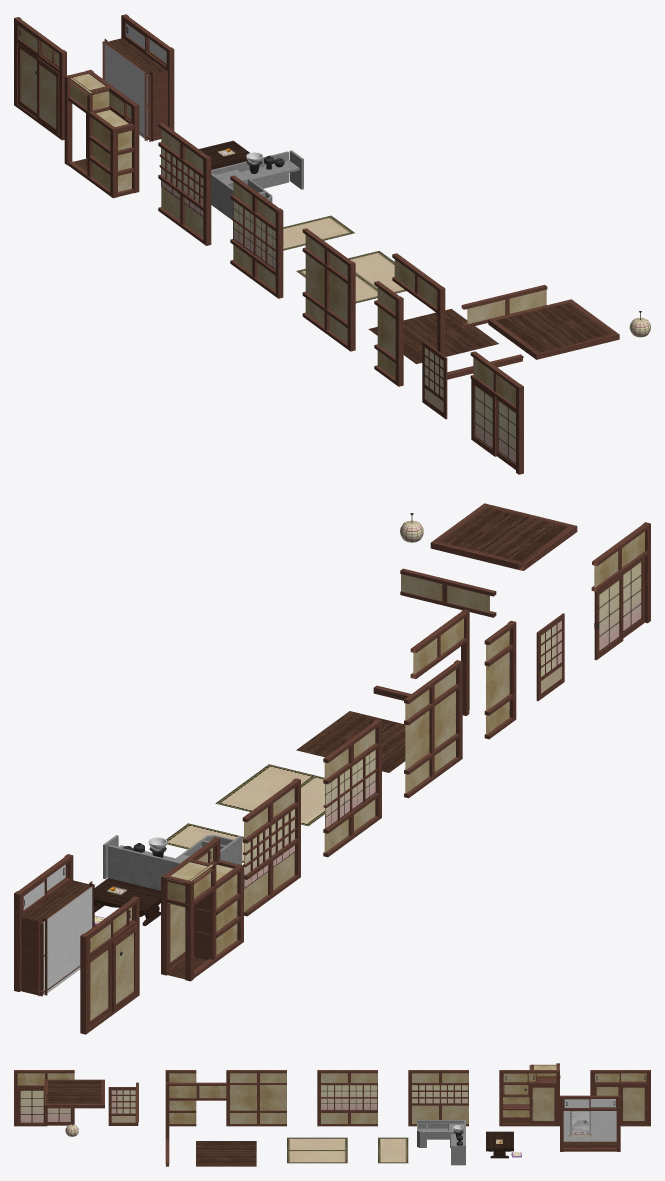
The picture shows the model from 3 angles, top to bottom: view 1: azimuth 30°, elevation 25°; view 2: azimuth 150°, elevation 25°; view 3: azimuth 270°, elevation 25°; orthographic projection. The views are drawn at different scales.
Visible parts, largest first — view 1: SM_wardrobe, SM_displayWall, SM_windowWallHigh, SM_windowWall, SM_wall, SM_wardrobeClosed, SM_ceiling, SM_kitchenBench, SM_floor, SM_wallHalf, SM_doorWall, SM_SeparatorL (+7 smaller); view 2: SM_wardrobe, SM_displayWall, SM_wardrobeClosed, SM_wall, SM_windowWall, SM_windowWallHigh, SM_ceiling, SM_kitchenBench, SM_wallHalf, SM_tatami, SM_floor, SM_SeparatorH (+7 smaller); view 3: SM_wardrobe, SM_wall, SM_windowWall, SM_windowWallHigh, SM_displayWall, SM_wardrobeClosed, SM_ceiling, SM_tatami, SM_floor, SM_SeparatorL, SM_kitchenBench, SM_wallHalf (+7 smaller).
Part boxes in pixels (bbox=[...]): SM_wardrobe: bbox=[64, 69, 139, 198]; SM_displayWall: bbox=[102, 14, 174, 141]; SM_windowWallHigh: bbox=[158, 122, 211, 245]; SM_windowWall: bbox=[230, 175, 283, 298]; SM_wall: bbox=[302, 228, 355, 351]; SM_wardrobeClosed: bbox=[14, 17, 66, 140]; SM_ceiling: bbox=[488, 299, 619, 359]; SM_kitchenBench: bbox=[211, 150, 303, 220]; SM_floor: bbox=[368, 309, 498, 364]; SM_wallHalf: bbox=[374, 281, 403, 386]; SM_doorWall: bbox=[470, 351, 523, 474]; SM_SeparatorL: bbox=[392, 253, 445, 355]; SM_wardrobe: bbox=[161, 837, 243, 981]; SM_displayWall: bbox=[14, 854, 94, 996]; SM_wardrobeClosed: bbox=[80, 896, 139, 1034]; SM_wall: bbox=[404, 660, 462, 798]; SM_windowWall: bbox=[323, 719, 381, 857]; SM_windowWallHigh: bbox=[242, 778, 300, 916]; SM_ceiling: bbox=[430, 503, 577, 570]; SM_kitchenBench: bbox=[103, 834, 241, 890]; SM_wallHalf: bbox=[484, 620, 516, 739]; SM_tatami: bbox=[215, 764, 324, 826]; SM_floor: bbox=[296, 711, 405, 772]; SM_SeparatorH: bbox=[400, 568, 496, 617]; SM_wardrobe: bbox=[499, 1063, 560, 1126]; SM_wall: bbox=[226, 1070, 286, 1126]; SM_windowWall: bbox=[317, 1070, 377, 1126]; SM_windowWallHigh: bbox=[408, 1070, 468, 1126]; SM_displayWall: bbox=[560, 1095, 620, 1151]; SM_wardrobeClosed: bbox=[590, 1070, 650, 1126]; SM_ceiling: bbox=[44, 1079, 104, 1108]; SM_tatami: bbox=[287, 1137, 347, 1163]; SM_floor: bbox=[196, 1141, 256, 1166]; SM_SeparatorL: bbox=[165, 1082, 226, 1139]; SM_kitchenBench: bbox=[417, 1120, 465, 1165]; SM_wallHalf: bbox=[165, 1070, 196, 1126].
Bounding box in the file's own units: 0.0238 × 0.0112 × 0.105.
6 materials, 5 textured.
